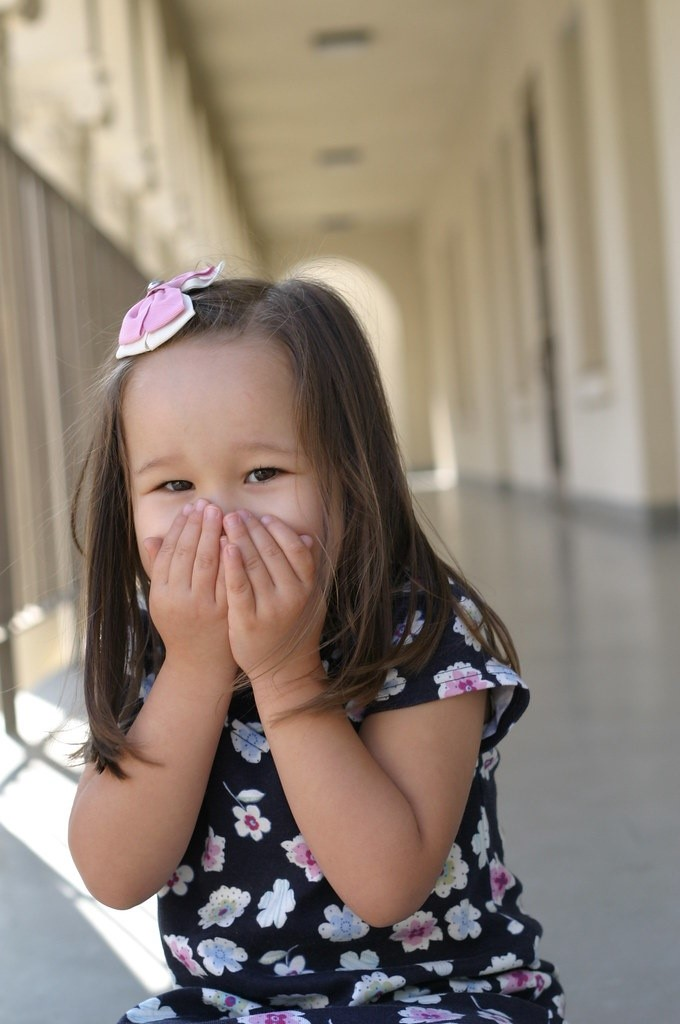face_no_mask: (104, 337, 357, 667)
